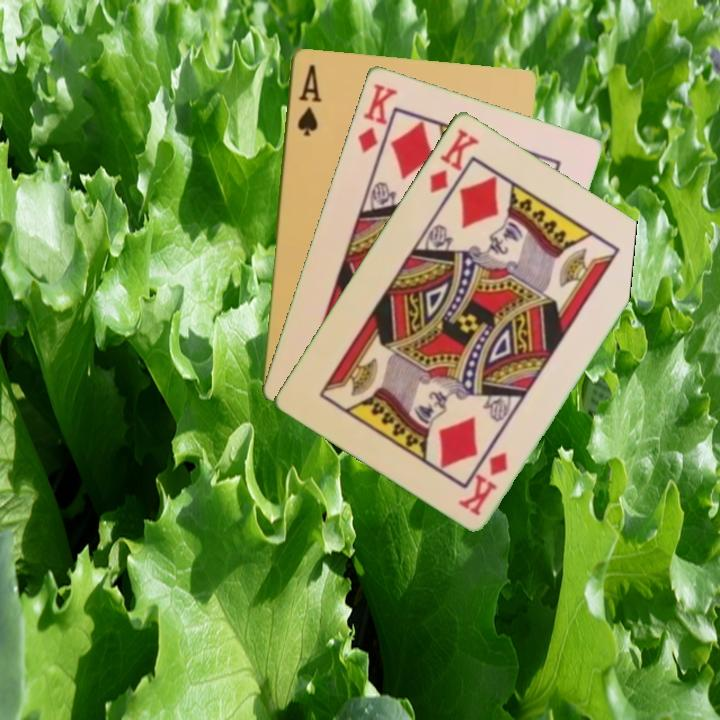As: (293, 60, 324, 139)
Kd: (425, 124, 482, 196), (455, 448, 511, 519), (354, 79, 400, 156)
